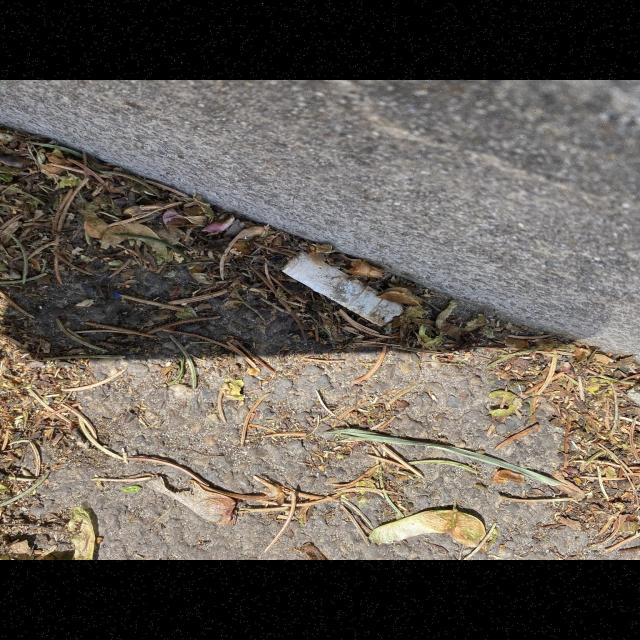other waste: (279, 250, 404, 328)
